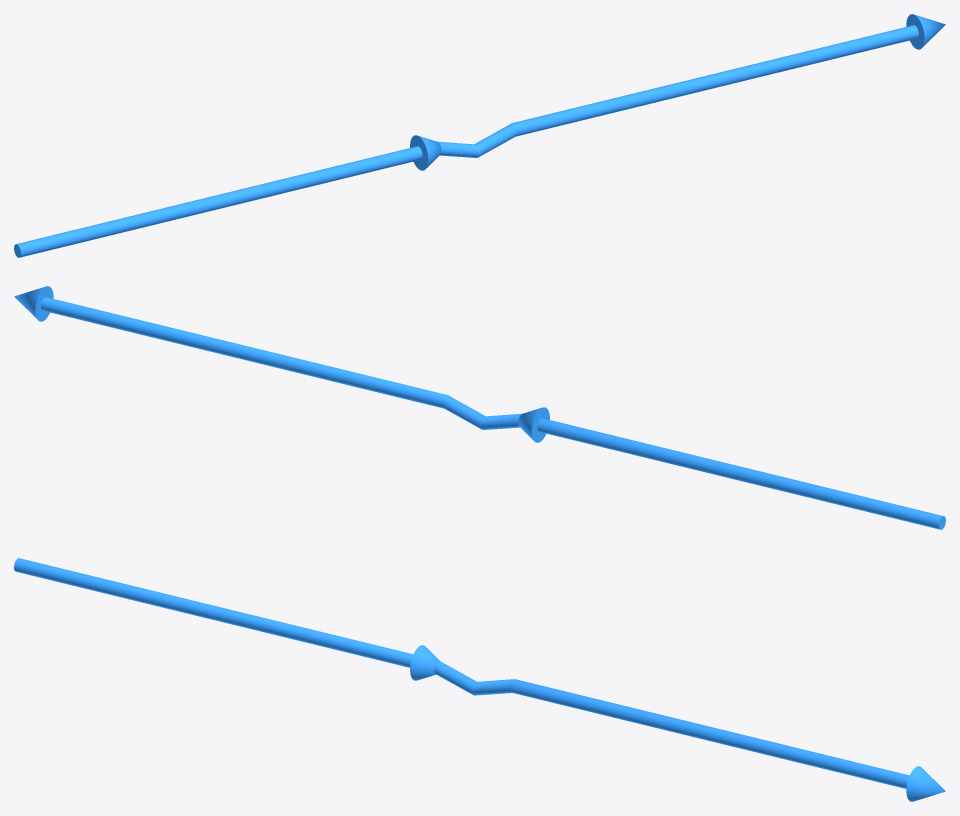
File: flow_indicator_flow.glb
3 renders of one model, top to bottom at view 1: azimuth 30°, elevation 25°; view 2: azimuth 150°, elevation 25°; view 3: azimuth 330°, elevation 25°, orthographic.
Parts seen in each view (by area): view 1: flow; view 2: flow; view 3: flow.
Boxes of the visible parts, left/top/right/bottom form: flow: left=14, top=14, right=945, bottom=257; flow: left=14, top=286, right=945, bottom=529; flow: left=14, top=558, right=945, bottom=801.
Size of the model in its own units: 1.22 by 0.0438 by 0.0416.
